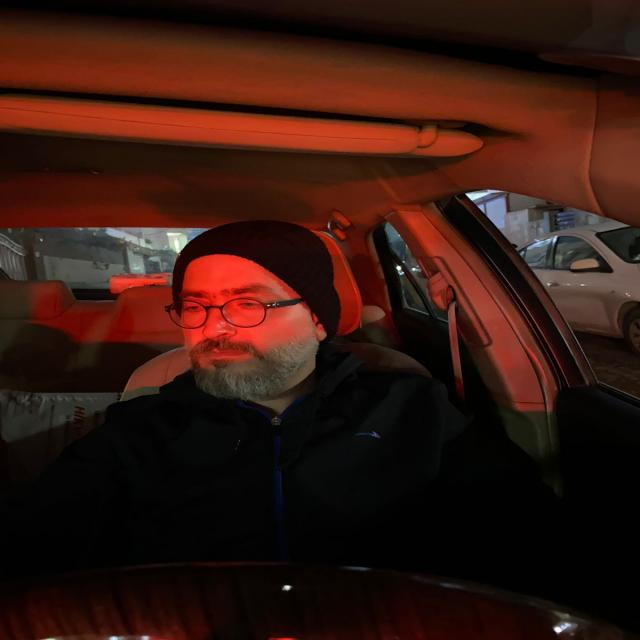person: (158, 214, 346, 415)
